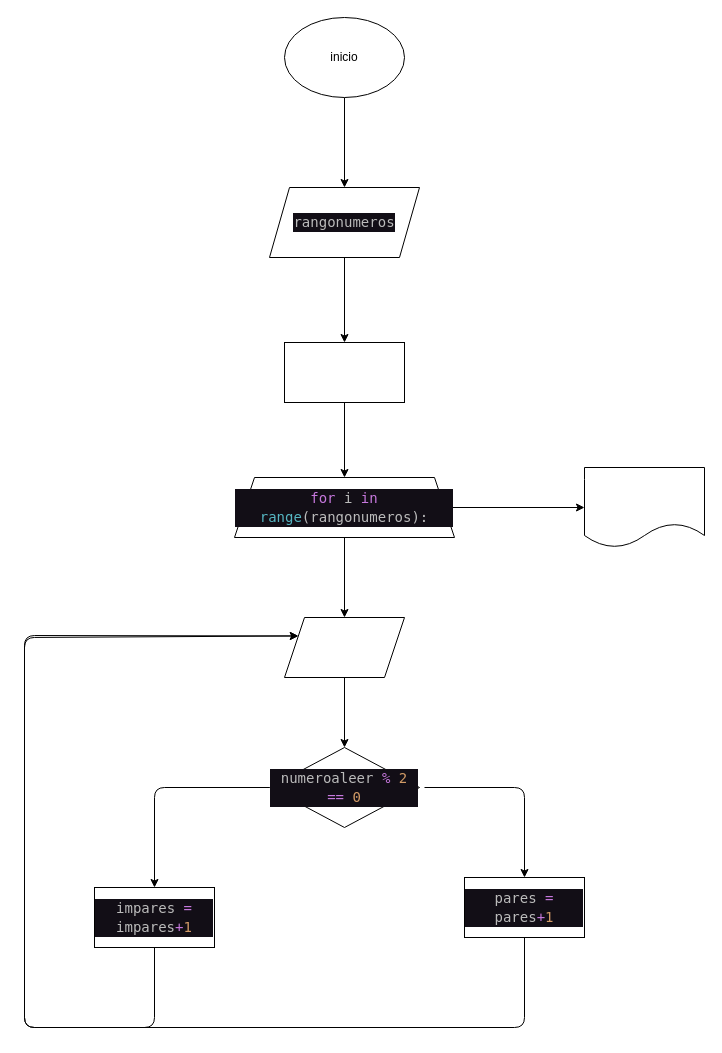
This 722x1053 diagram has some shape labels left out. The centre of each missing label's shape, as x and y in pixels:
"numeroaleer" belongs at point 344,647.
"pares = 0 impares = 0" belongs at point 344,372.
"pares, impares" belongs at point 644,507.
